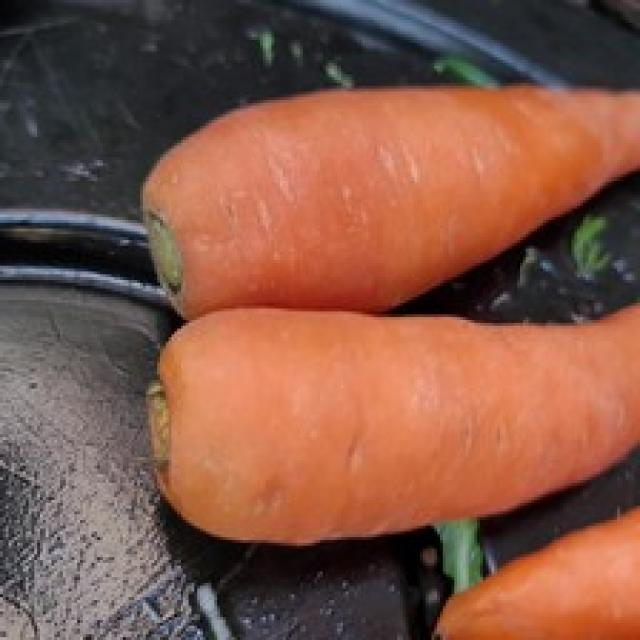carrot: (146, 306, 640, 546), (135, 80, 640, 310)
